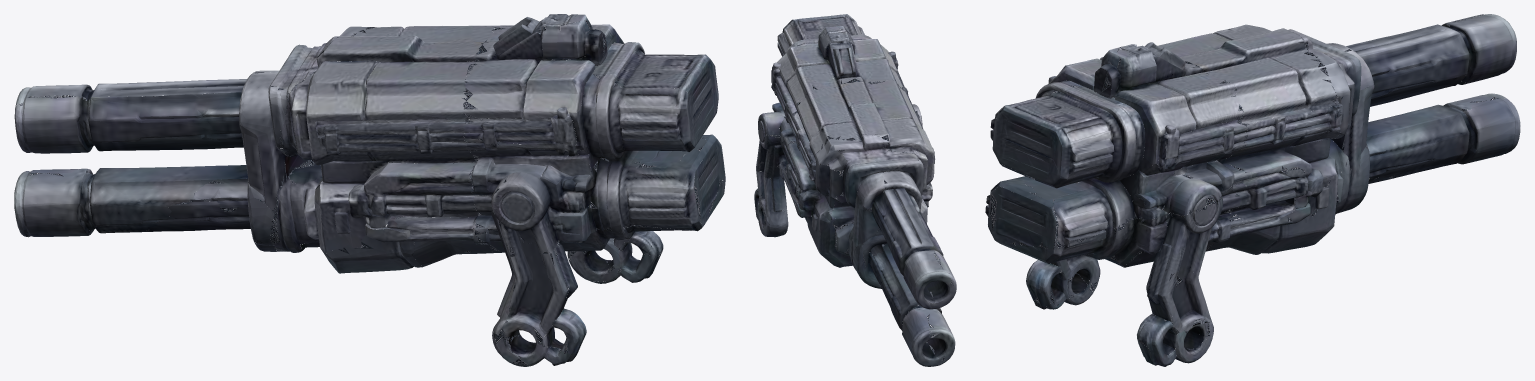
Rendered from HL_WPN_DarkGunSet_01.glb.
The picture shows the model from 3 angles, left to right: view 1: azimuth 30°, elevation 25°; view 2: azimuth 150°, elevation 25°; view 3: azimuth 270°, elevation 25°; orthographic projection. The views are drawn at different scales.
Visible parts, largest first — view 1: meshes[0]; view 2: meshes[0]; view 3: meshes[0].
Part boxes in pixels (box(x1,y1,x2,y2)): meshes[0]: box(14, 14, 725, 366); meshes[0]: box(754, 14, 956, 366); meshes[0]: box(985, 14, 1520, 366).
Size of the model in its own units: 0.3171 by 0.1893 by 0.3234.
Materials: 1 (1 with a texture image).
